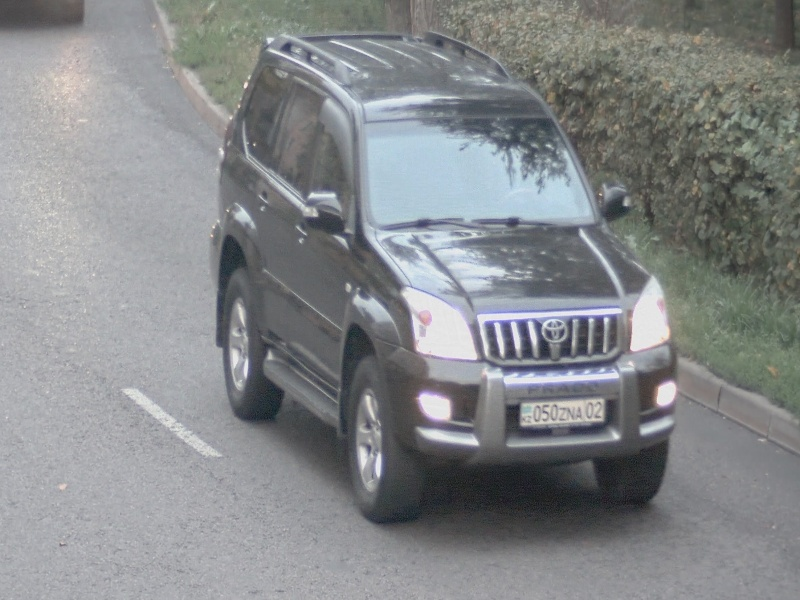plate: (518, 396, 608, 429)
